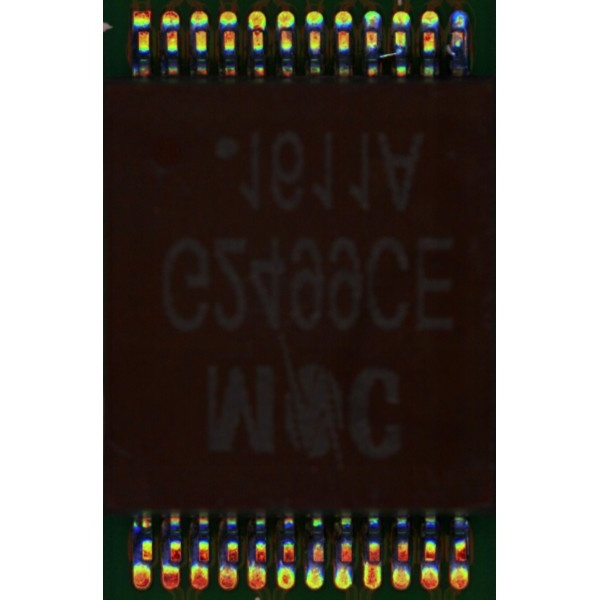Bad_podu: (252, 23, 263, 40), (368, 558, 380, 573)
